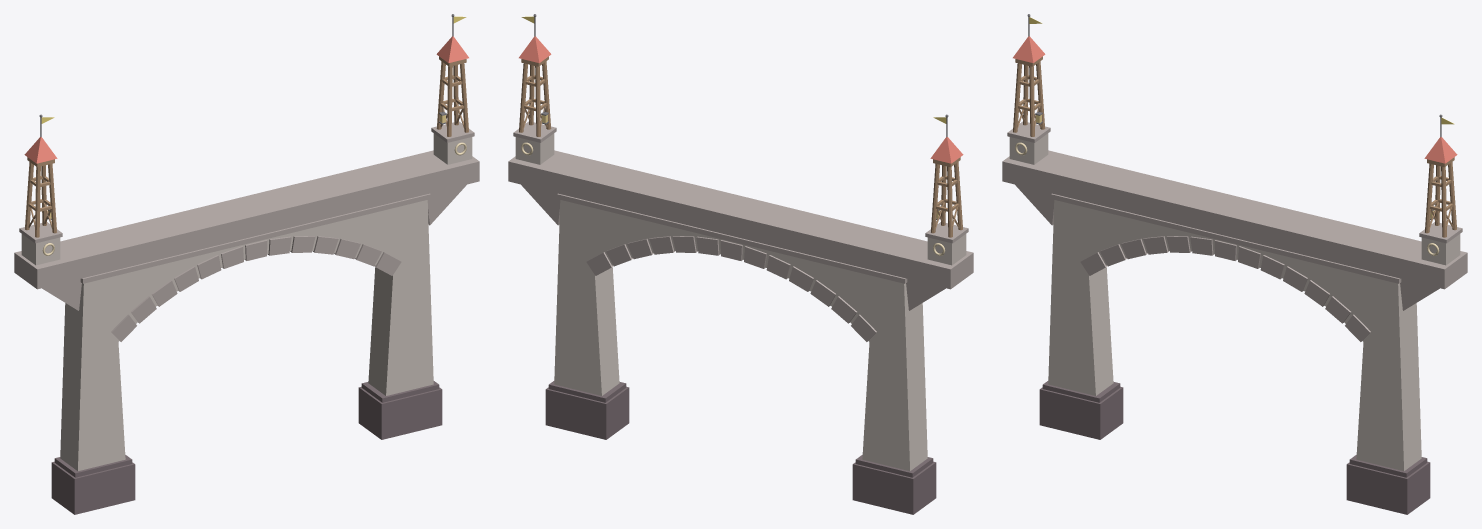
The model's file is SkatePylon.glb.
The picture shows the model from 3 angles, left to right: view 1: azimuth 30°, elevation 25°; view 2: azimuth 150°, elevation 25°; view 3: azimuth 330°, elevation 25°; orthographic projection.
Visible parts, largest first — view 1: Trim, Stone, Soot, Timber, Roof; view 2: Trim, Stone, Soot, Timber, Roof; view 3: Trim, Stone, Soot, Timber, Roof.
Part boxes in pixels (bbox=[...]): Trim: bbox=[14, 121, 479, 341]; Stone: bbox=[21, 133, 472, 470]; Soot: bbox=[51, 381, 442, 514]; Timber: bbox=[25, 56, 468, 237]; Roof: bbox=[24, 36, 468, 163]; Trim: bbox=[508, 121, 973, 341]; Stone: bbox=[515, 133, 966, 470]; Soot: bbox=[545, 381, 936, 514]; Timber: bbox=[519, 56, 962, 237]; Roof: bbox=[519, 36, 963, 163]; Trim: bbox=[1002, 121, 1467, 341]; Stone: bbox=[1009, 133, 1460, 470]; Soot: bbox=[1039, 381, 1430, 514]; Timber: bbox=[1013, 56, 1456, 237]; Roof: bbox=[1013, 36, 1457, 163].
Size of the model in its own units: 116 by 99.55 by 10.4.
